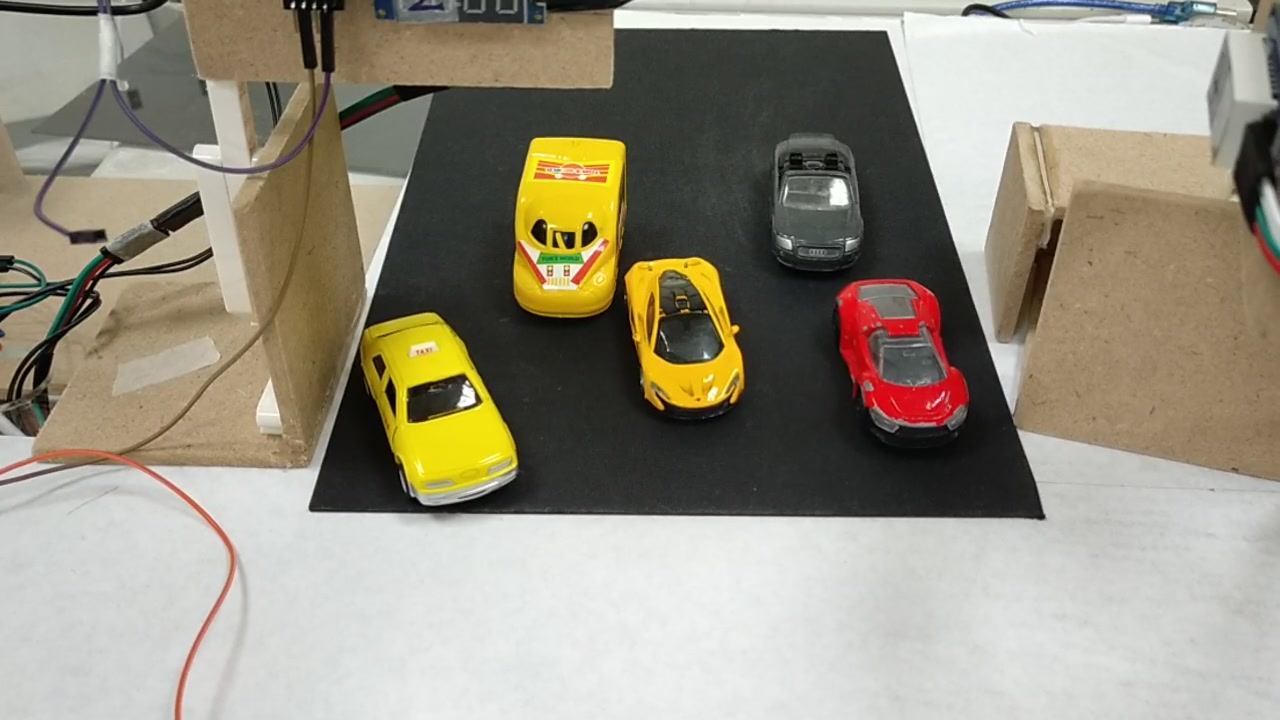car: (357, 324, 522, 509), (831, 279, 966, 441), (622, 259, 740, 418), (768, 133, 861, 270)
